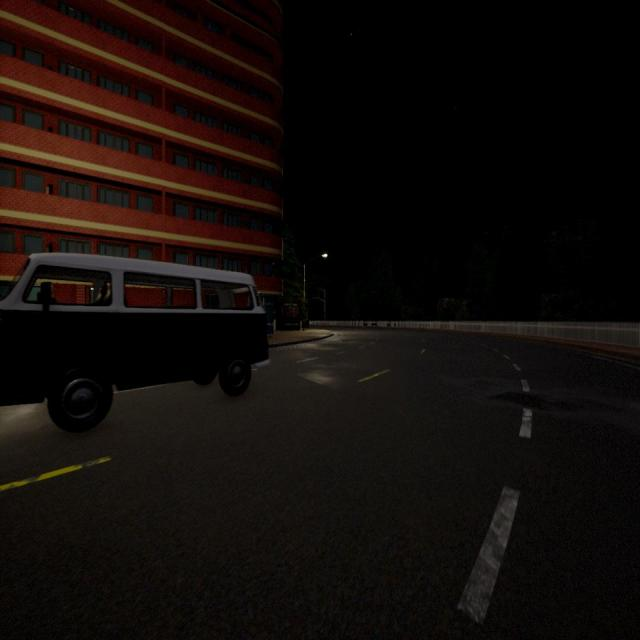Vehicle: (2, 251, 270, 435)
